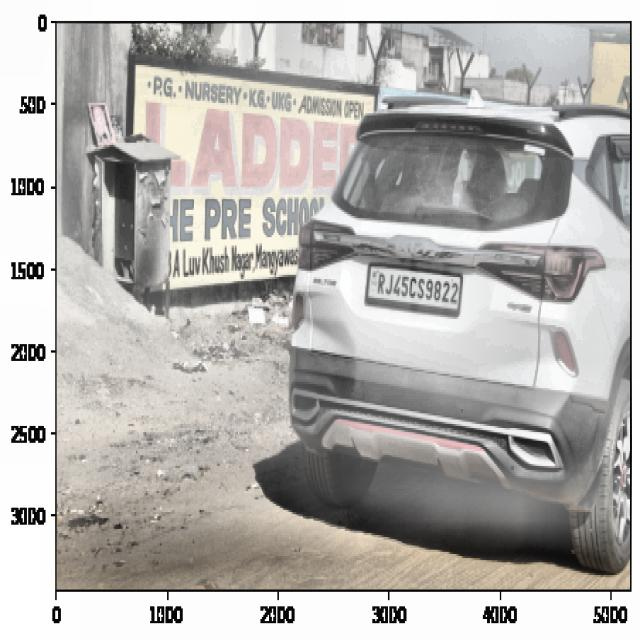license_plate: (373, 269, 463, 312)
